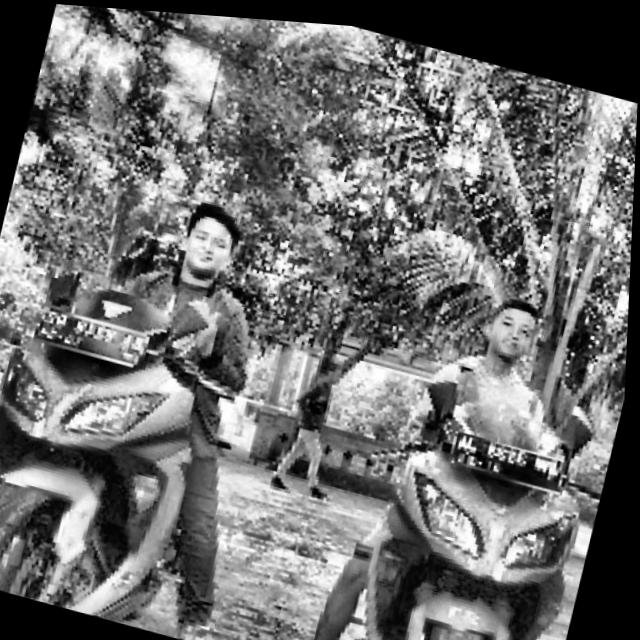motorcycle: (0, 231, 262, 639), (321, 356, 622, 640)
